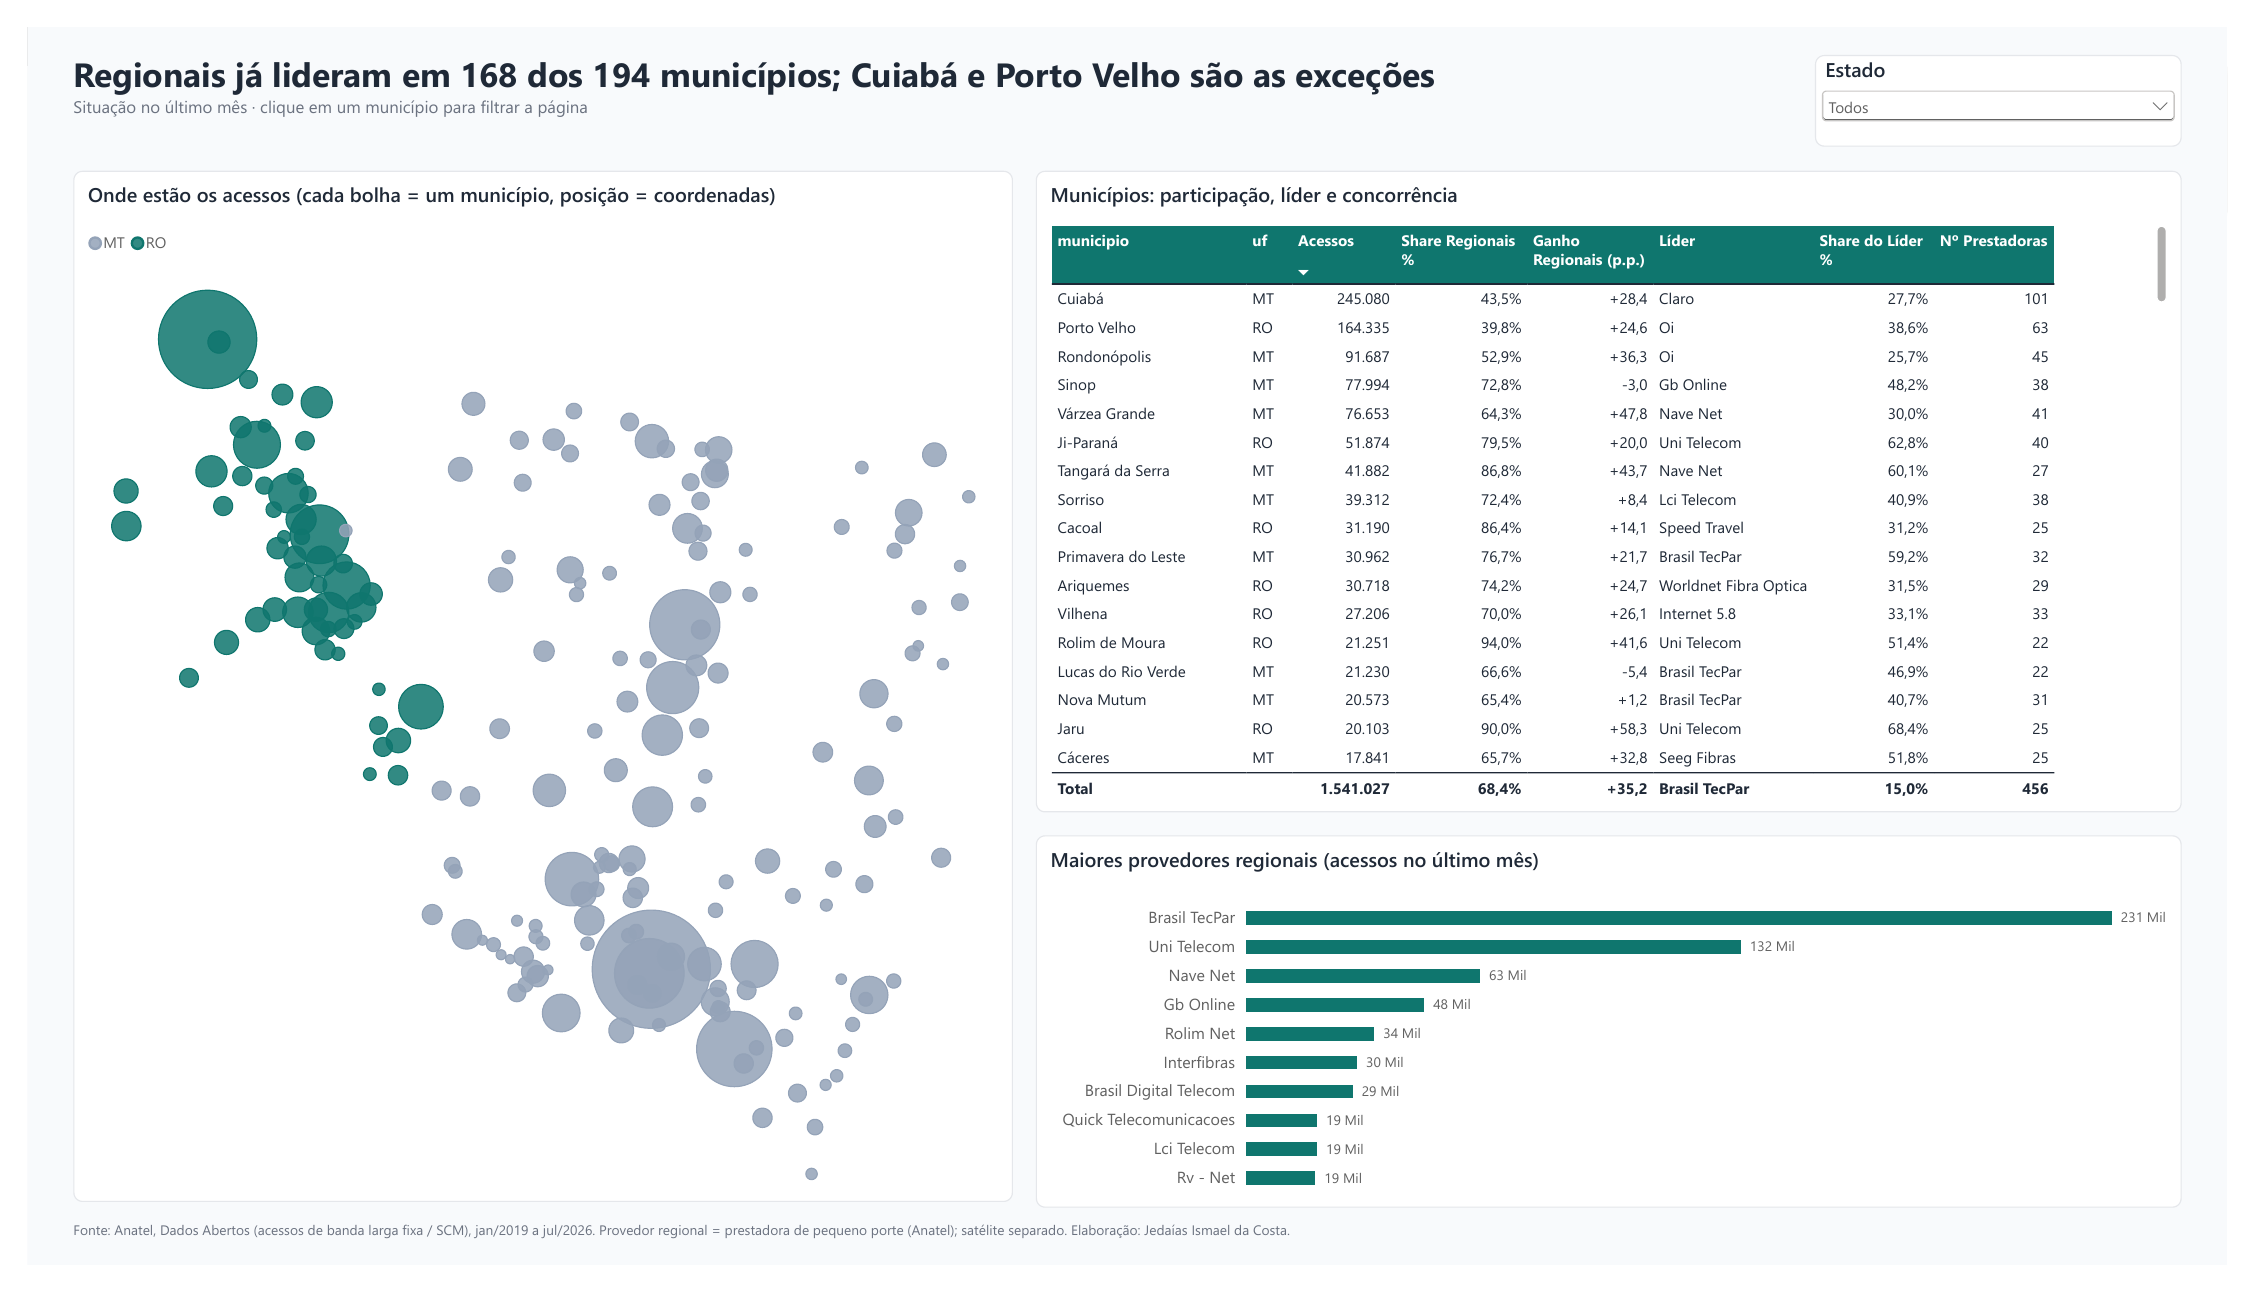

The page's visual inventory and layout, read from the dashboard file:
{"tool":"powerbi","page":{"name":"Municípios","canvas":[1920,1080],"ordinal":1},"visuals":[{"type":"textbox","box":[40,20,1480,90],"z":0},{"type":"slicer","fields":{"Values":["dim_municipio.uf"]},"box":[1560,24,320,80],"z":1},{"type":"textbox","box":[40,1040,1840,32],"z":2},{"type":"scatterChart","title":"Onde estão os acessos (cada bolha = um município, posição = coordenadas)","fields":{"Category":["dim_municipio.municipio"],"Series":["dim_municipio.uf"],"Size":["fato_acessos.Acessos"],"X":["Avg(dim_municipio.longitude)"],"Y":["Avg(dim_municipio.latitude)"]},"box":[40,125,820,900],"z":3},{"type":"tableEx","title":"Municípios: participação, líder e concorrência","fields":{"Values":["dim_municipio.municipio","dim_municipio.uf","fato_acessos.Acessos","fato_acessos.Share Regionais %","fato_acessos.Ganho Regionais (p.p.)","fato_acessos.Líder","fato_acessos.Share do Líder %","fato_acessos.Nº Prestadoras"]},"box":[880,125,1000,560],"z":4},{"type":"clusteredBarChart","title":"Maiores provedores regionais (acessos no último mês)","fields":{"Category":["dim_prestadora.marca"],"Y":["fato_acessos.Acessos Regionais"]},"box":[880,705,1000,325],"z":5}]}

Visuals, with their boxes in screenshot pixels (x1, y1, x2, y2), scaled from the page's 1920x1080 canvas onto the 2255x1293 screenshot:
textbox: region(47, 24, 1785, 132)
slicer - dim_municipio.uf: region(1832, 29, 2208, 125)
textbox: region(47, 1245, 2208, 1283)
"Onde estão os acessos (cada bolha = um município, posição = coordenadas)" scatterChart: region(47, 150, 1010, 1227)
"Municípios: participação, líder e concorrência" tableEx: region(1034, 150, 2208, 820)
"Maiores provedores regionais (acessos no último mês)" clusteredBarChart: region(1034, 844, 2208, 1233)
